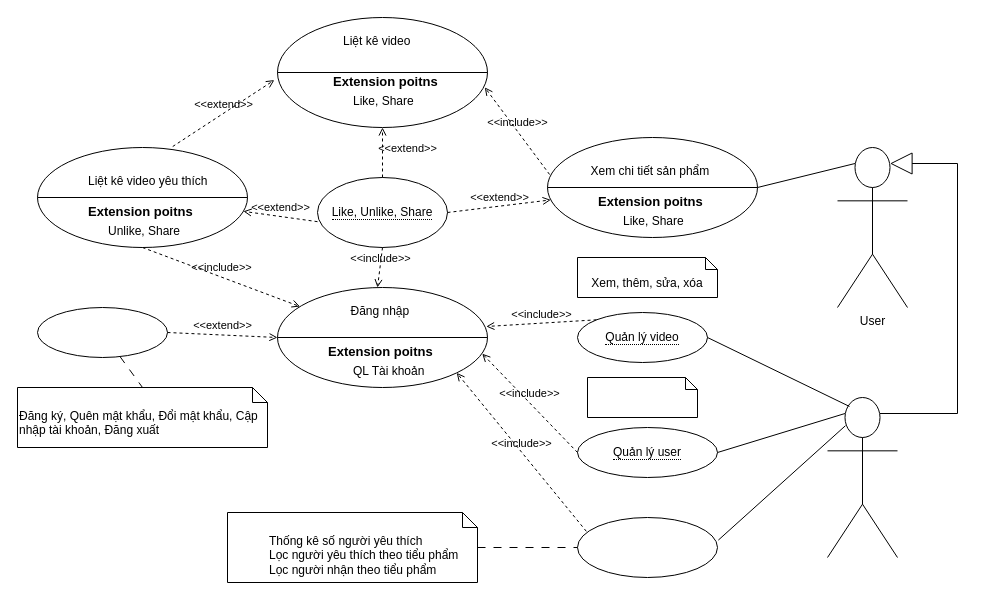
This 997x600 diagram has some shape labels left out. The shapes that lost their labels are listed below. From the top down, each one's centre as x and y in pixels, then its label:
At pixel 102 332: "Quản lý tài khoản".
At pixel 642 397: "Xem, sửa, xóa".
At pixel 862 477: "Administrator".
At pixel 647 547: "Báo cáo".
